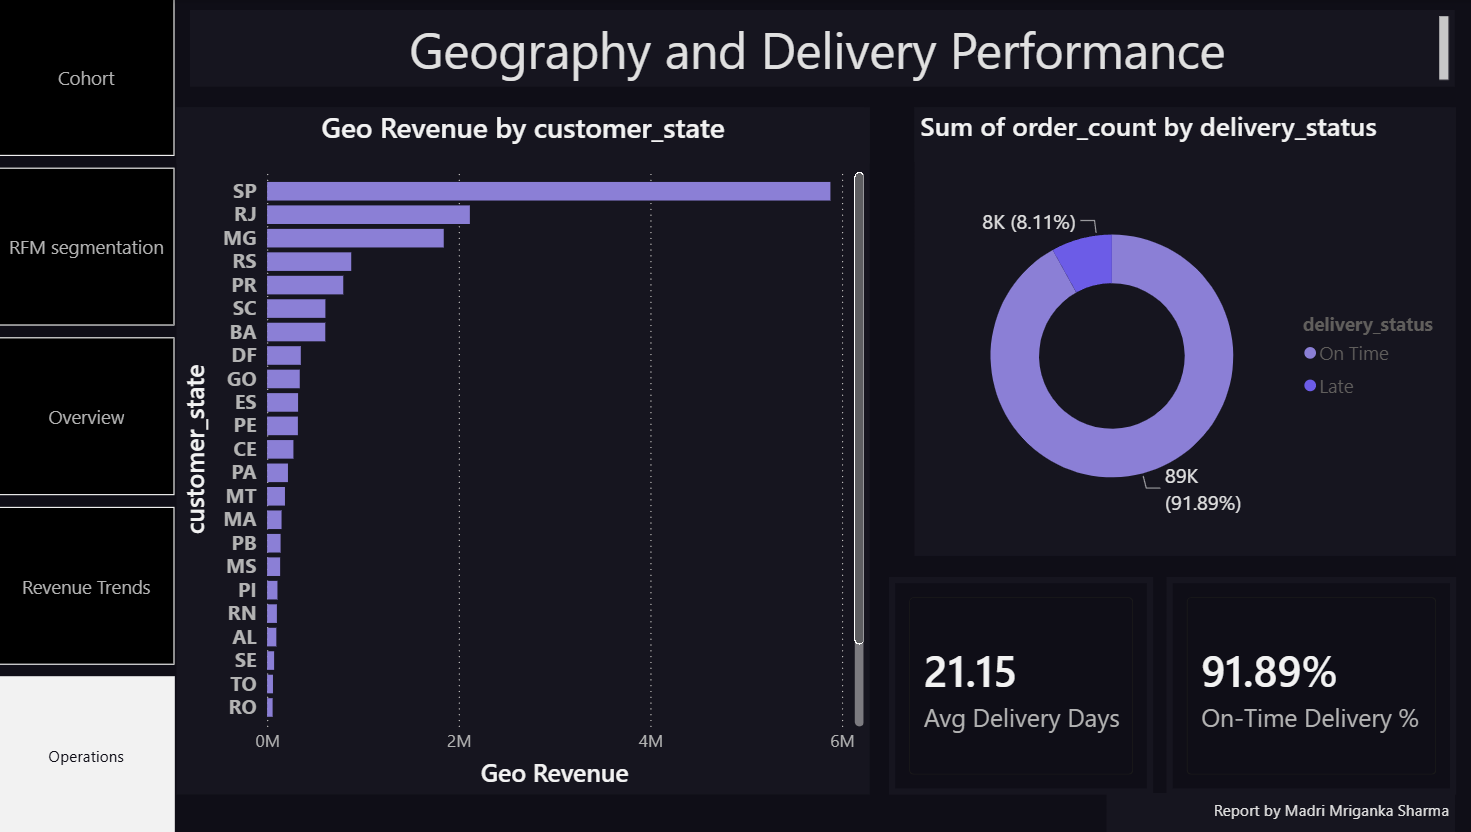

The dashboard page shown, as its layout file describes it:
{"tool":"powerbi","page":{"name":"Operations","canvas":[1280,720],"ordinal":4},"visuals":[{"type":"clusteredBarChart","fields":{"Category":["geographic_performance.customer_state"],"Y":["geographic_performance.Geo Revenue"]},"box":[164,94.3,596.5,591.4],"z":0},{"type":"actionButton","box":[0,0,100,40],"z":1000},{"type":"donutChart","fields":{"Category":["delivery_performance.delivery_status"],"Y":["Sum(delivery_performance.order_count)"]},"box":[799.3,94.3,466.1,386.1],"z":3001},{"type":"cardVisual","fields":{"Data":["delivery_performance.On-Time Delivery %"]},"box":[1016.2,498.4,249.2,187.2],"z":3002},{"type":"cardVisual","fields":{"Data":["delivery_performance.Avg Delivery Days"]},"box":[777.3,498.4,227.3,187.2],"z":3003},{"type":"textbox","box":[964.7,684.5,300.1,36],"z":3004},{"type":"pageNavigator","box":[10,0,152.4,720.5],"z":3005},{"type":"textbox","box":[175.6,10.3,1088.5,65.9],"z":3006}]}

Visuals, with their boxes on the page's 1280x720 design canvas (x1, y1, x2, y2). These are canvas units, not pixel positions in the 1471x832 screenshot, which may show the page scaled, cropped or inside an application window:
clusteredBarChart - geographic_performance.customer_state x geographic_performance.Geo Revenue: <bbox>164, 94, 760, 686</bbox>
actionButton: <bbox>0, 0, 100, 40</bbox>
donutChart - delivery_performance.delivery_status x Sum(delivery_performance.order_count): <bbox>799, 94, 1265, 480</bbox>
cardVisual - delivery_performance.On-Time Delivery %: <bbox>1016, 498, 1265, 686</bbox>
cardVisual - delivery_performance.Avg Delivery Days: <bbox>777, 498, 1005, 686</bbox>
textbox: <bbox>965, 684, 1265, 720</bbox>
pageNavigator: <bbox>10, 0, 162, 720</bbox>
textbox: <bbox>176, 10, 1264, 76</bbox>
